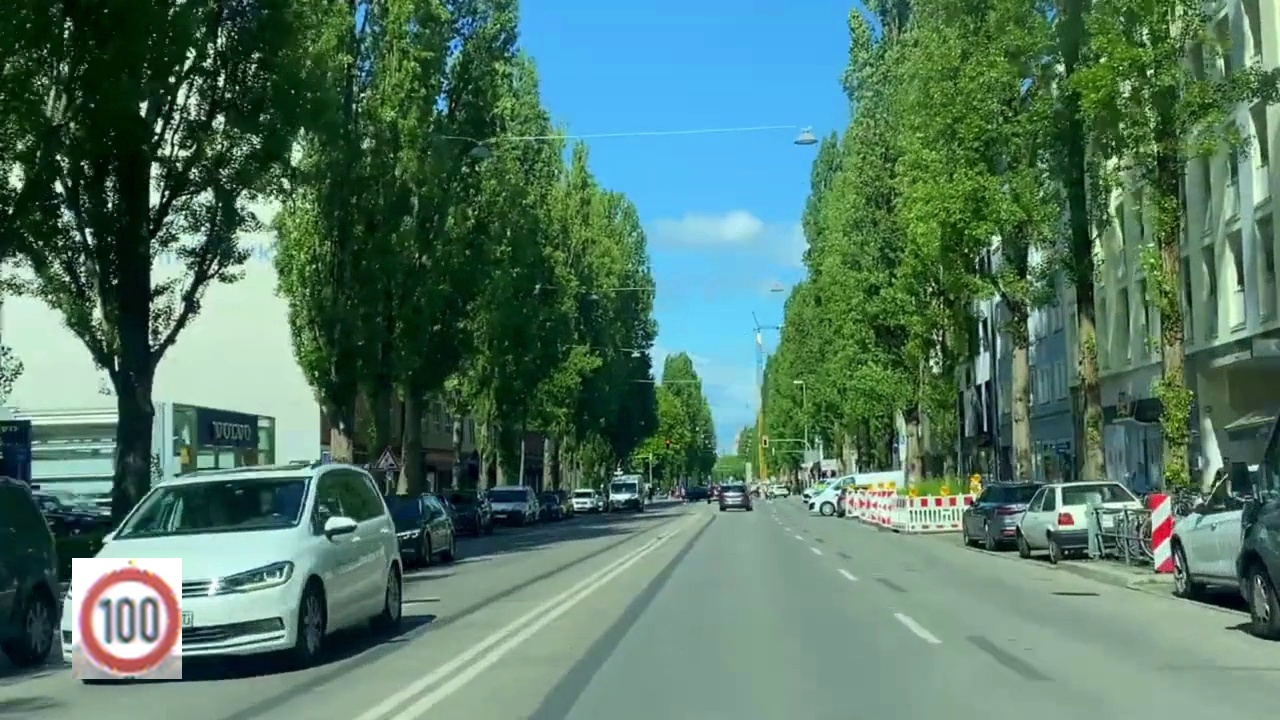Speed 100: (72, 558, 182, 679)
